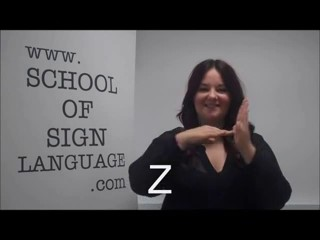Z: (183, 98, 255, 160)
